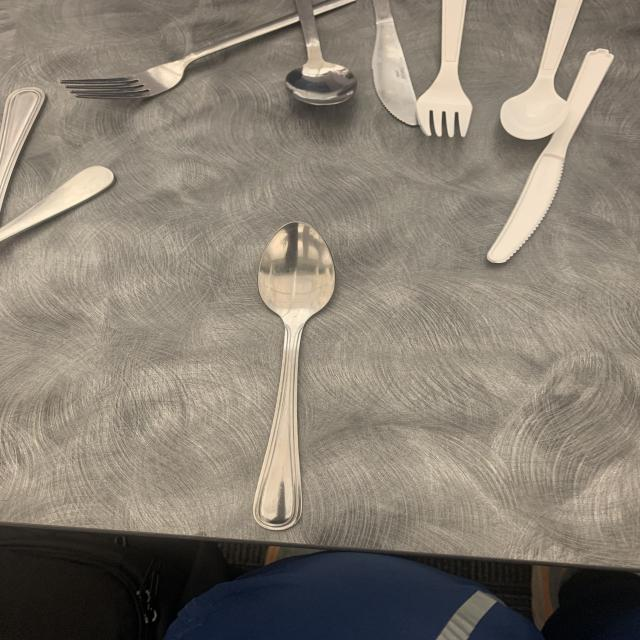spoon: (230, 212, 354, 541)
